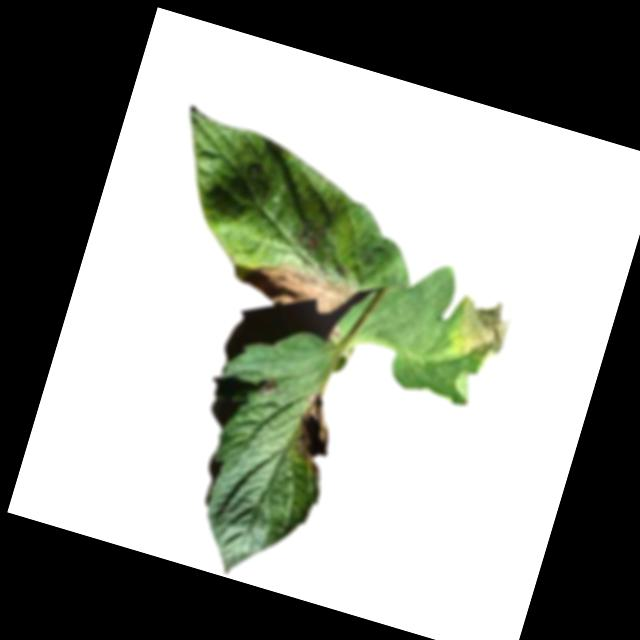Late_blight: (235, 252, 358, 326), (444, 289, 517, 369), (281, 389, 343, 483), (255, 373, 279, 398), (328, 324, 342, 341)
